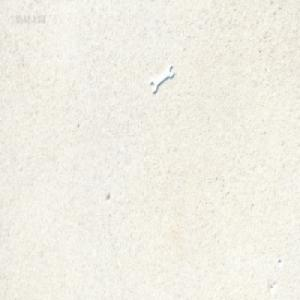Wrench: (151, 65, 174, 96)
